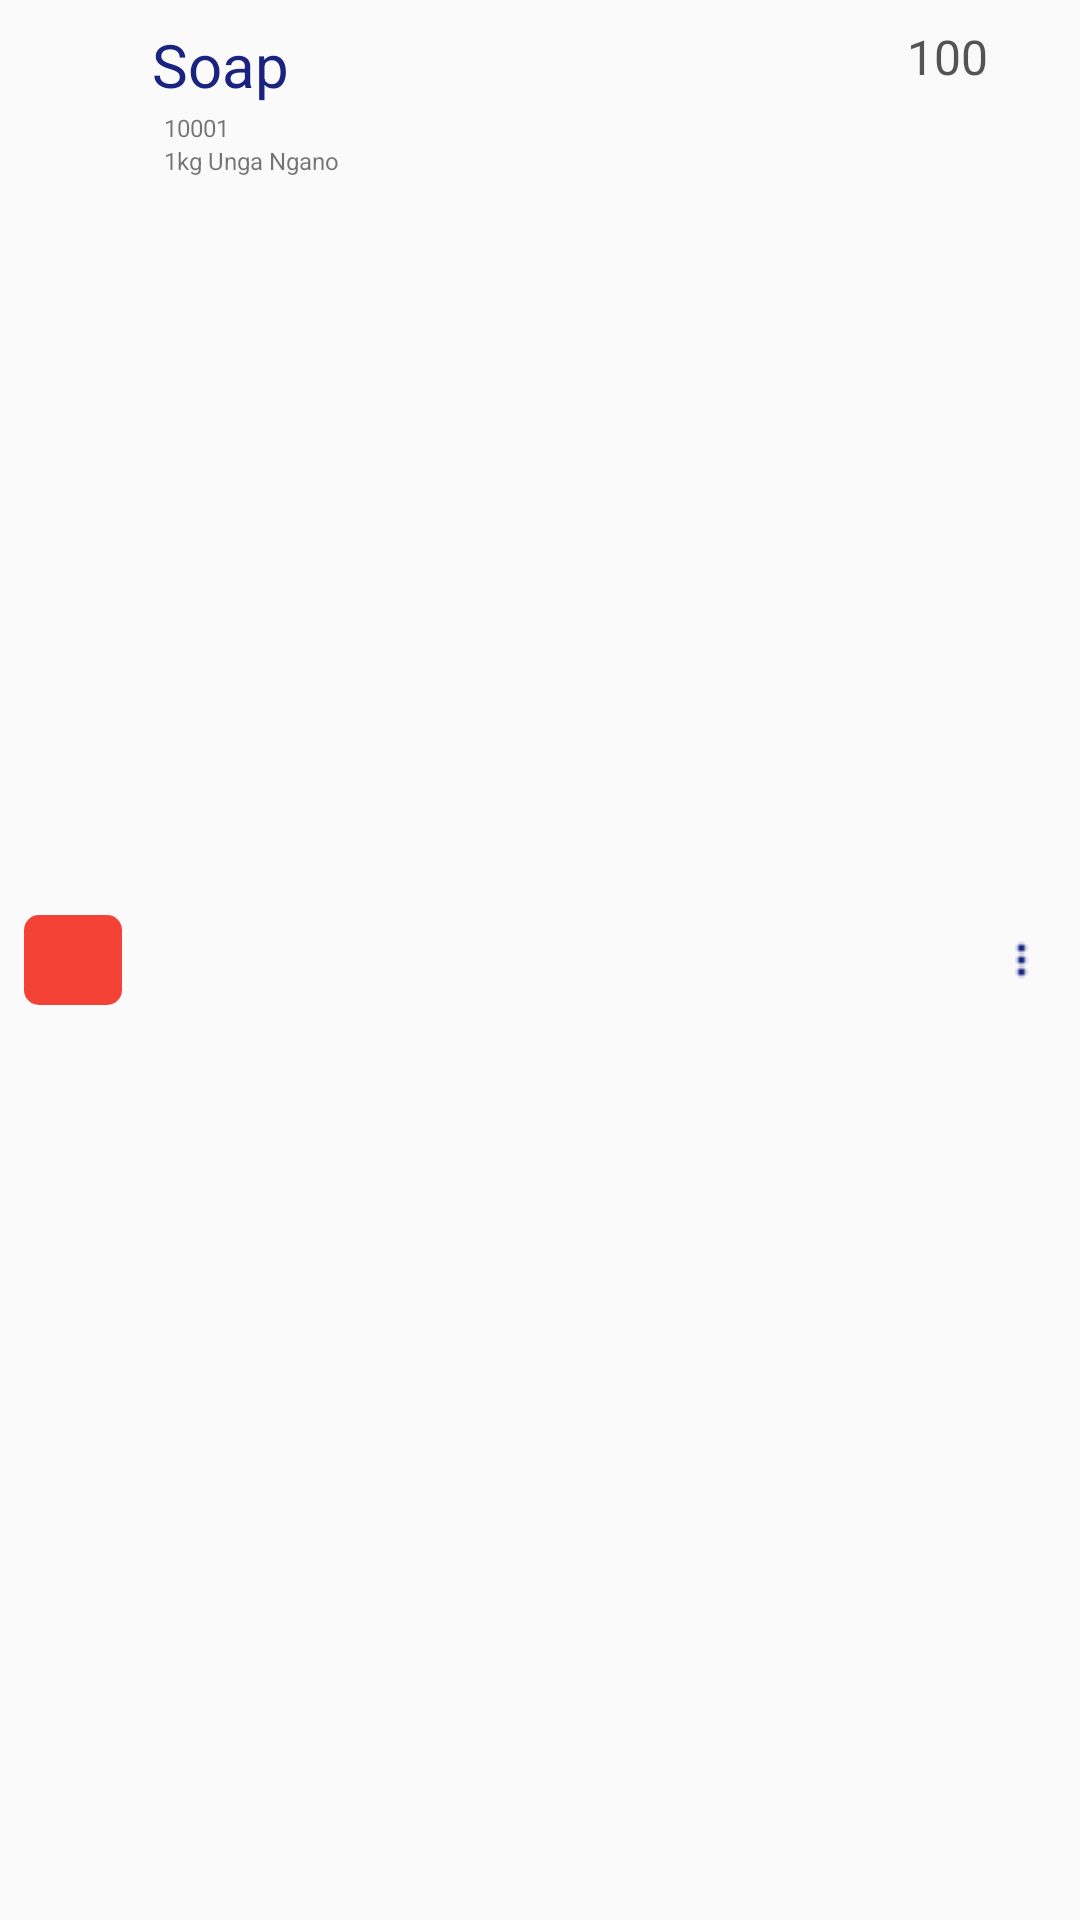

Screen size 1080x1920. Icon name, then its box in pixels as (x1, y1, x2, y2):
vertical dots: (1016, 942, 1027, 978)
